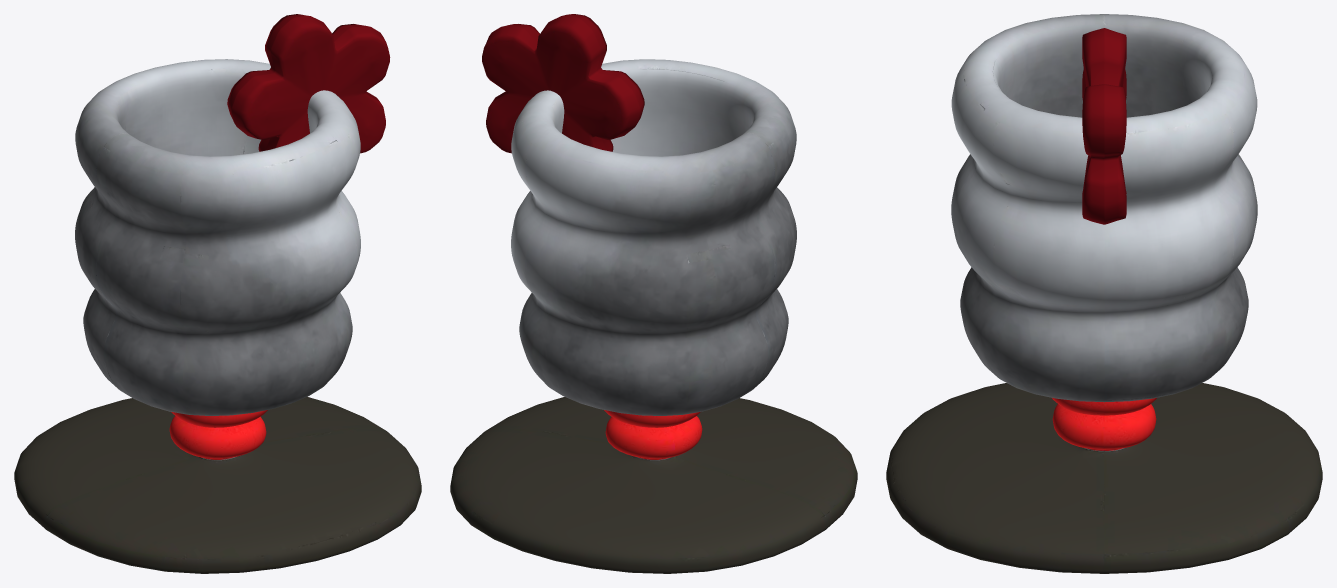
The picture shows the model from 3 angles, left to right: view 1: azimuth 30°, elevation 25°; view 2: azimuth 150°, elevation 25°; view 3: azimuth 270°, elevation 25°; orthographic projection. The views are drawn at different scales.
Visible parts, largest first — view 1: Cube, Cylinder; view 2: Cube, Cylinder; view 3: Cube, Cylinder.
Boxes of the visible parts, <box> form: Cube: <box>14,59,421,573</box>; Cylinder: <box>227,14,390,153</box>; Cube: <box>450,59,857,573</box>; Cylinder: <box>482,14,644,153</box>; Cube: <box>886,14,1322,573</box>; Cylinder: <box>1082,28,1126,224</box>.
Bounding box in the file's own units: 2.75 × 3.46 × 2.75.
4 materials, 4 textured.
